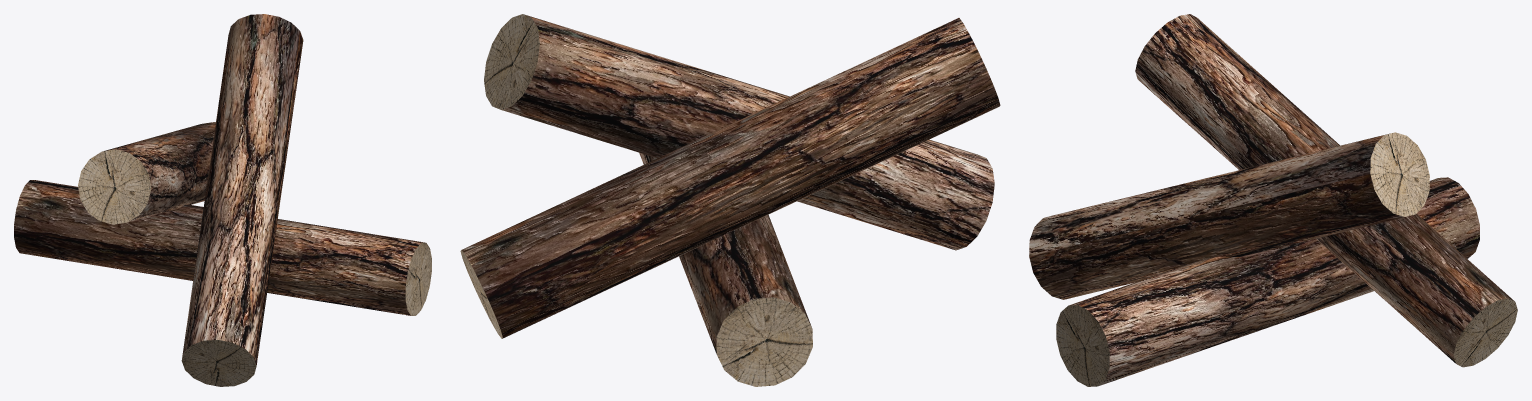
The model's file is woods.fbx.
The picture shows the model from 3 angles, left to right: view 1: azimuth 30°, elevation 25°; view 2: azimuth 150°, elevation 25°; view 3: azimuth 270°, elevation 25°; orthographic projection. The views are drawn at different scales.
Parts seen in each view (by area): view 1: group_pasted__pCylinder1; view 2: group_pasted__pCylinder1; view 3: group_pasted__pCylinder1.
Boxes of the visible parts, x1,y1,x2,y2 form: group_pasted__pCylinder1: (14,14,431,386); group_pasted__pCylinder1: (460,14,1000,386); group_pasted__pCylinder1: (1029,14,1517,386).
Size of the model in its own units: 0.635 by 0.4403 by 0.7442.
1 material, 1 textured.
